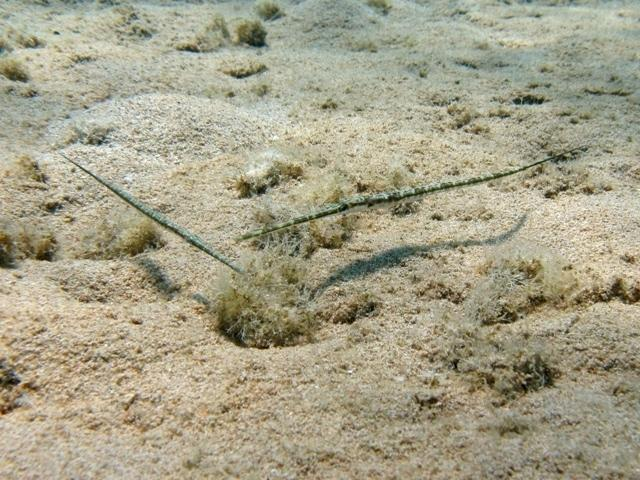Fistularia commersonii: (36, 111, 431, 306), (197, 127, 624, 250)
